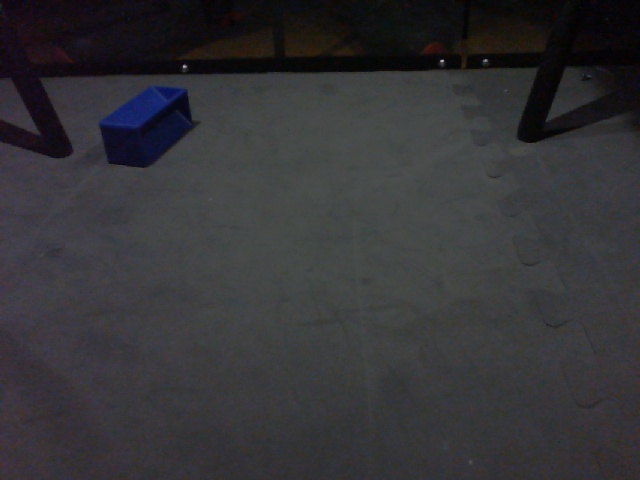BlueSample: (96, 83, 197, 169)
